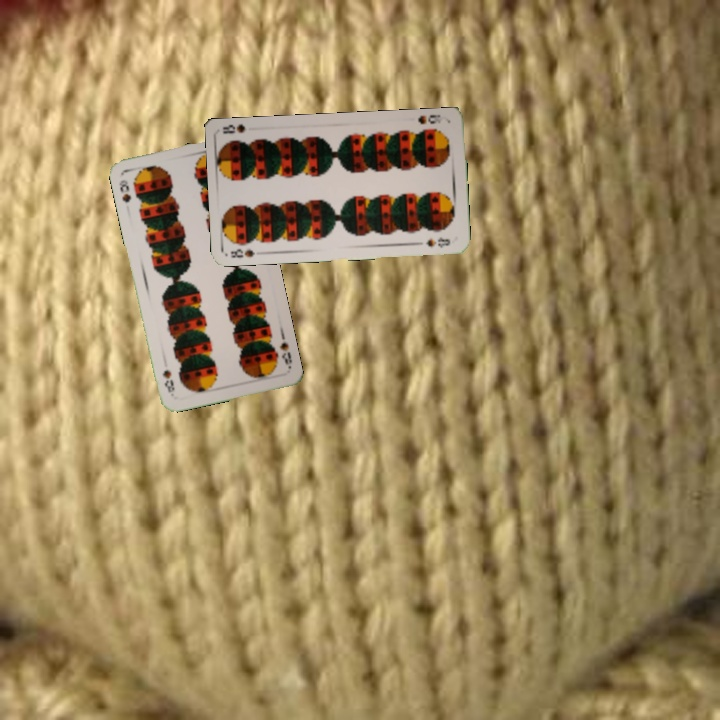S8: (276, 338, 294, 371), (115, 176, 134, 205), (414, 111, 448, 127), (227, 245, 257, 260)
